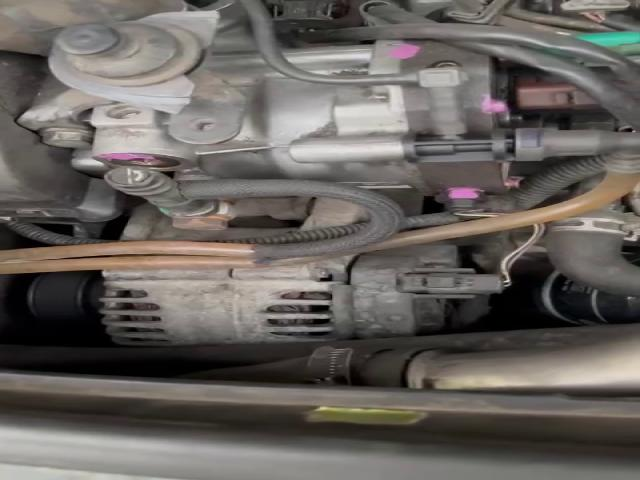alternator: (98, 243, 509, 346)
high_pressure_pump: (66, 35, 550, 212)
